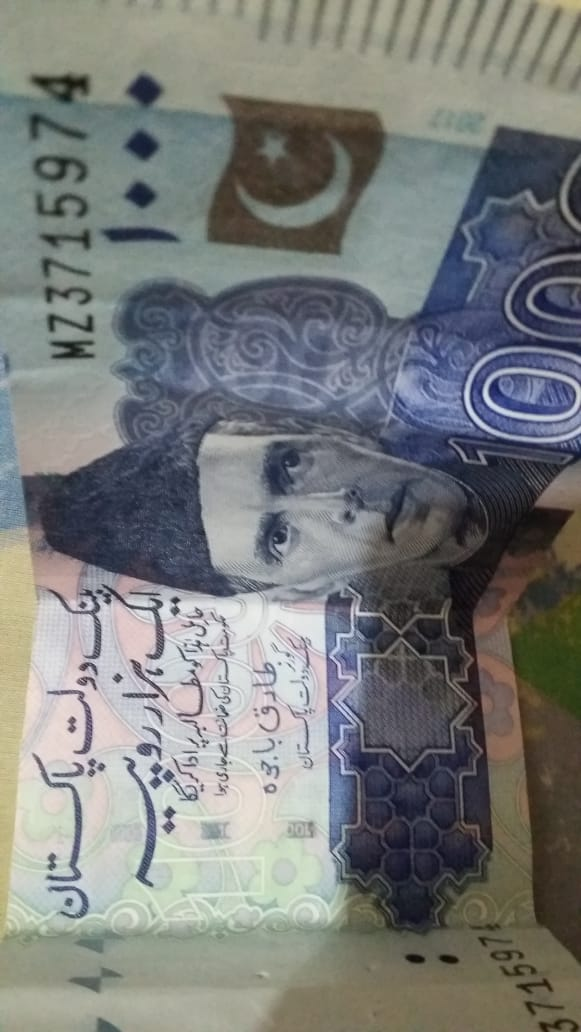1000 rupee: (5, 20, 565, 1032), (187, 55, 407, 329)
